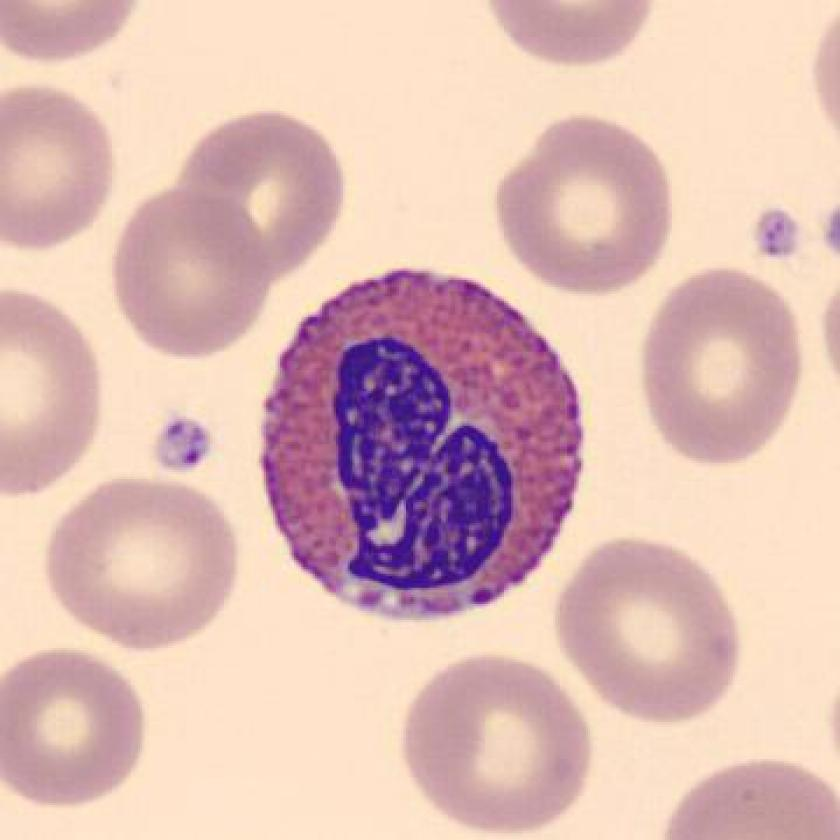eosinophil: (246, 253, 594, 635)
